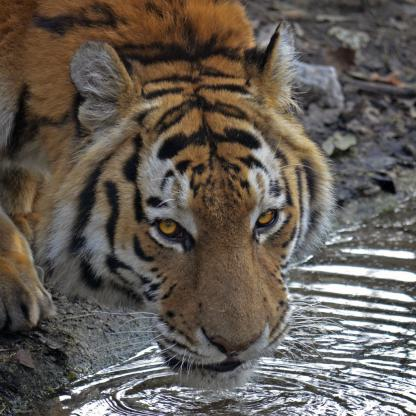Tiger: (0, 0, 349, 388)
